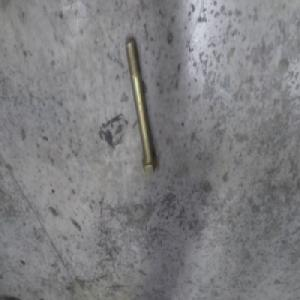Bolt: (125, 40, 159, 176)
